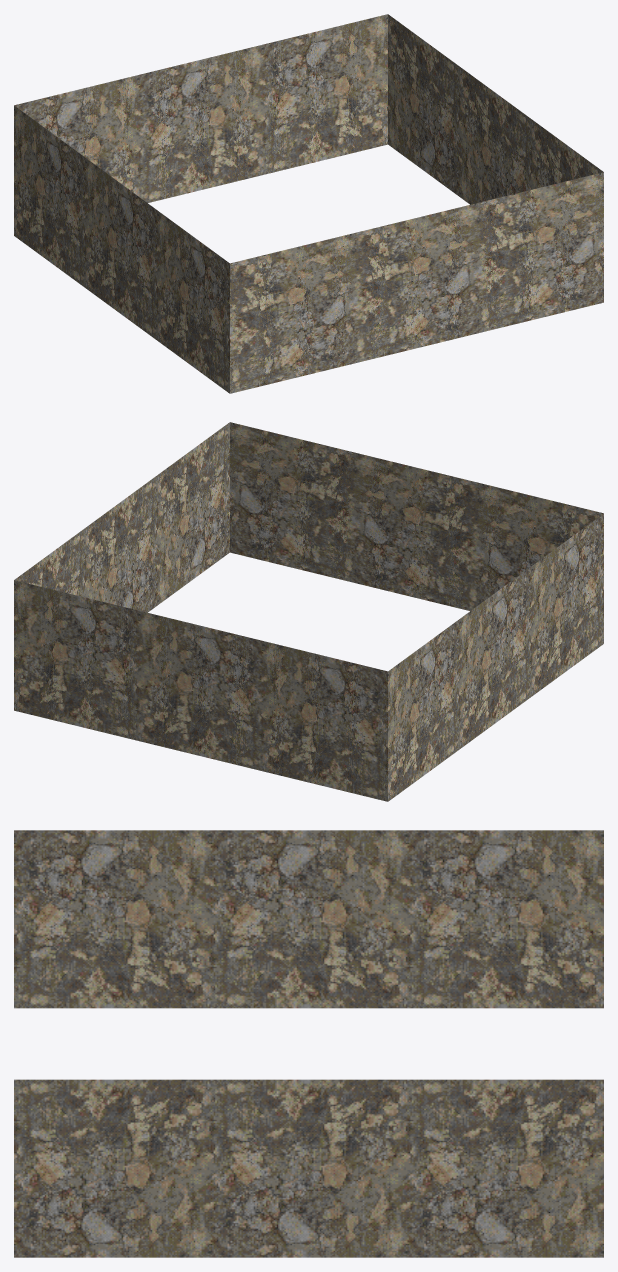
Rendered from Tiles3Dfbx.fbx.
The picture shows the model from 3 angles, top to bottom: view 1: azimuth 30°, elevation 25°; view 2: azimuth 150°, elevation 25°; view 3: azimuth 270°, elevation 25°; orthographic projection. The views are drawn at different scales.
Visible parts, largest first — view 1: Mid_Back_Right, Mid_Front_Left, Mid_Front_Right, Mid_Back_Left, Mid_Front_Center, Mid_Back_Center, Mid_InBetween_Left, Mid_InBetween_Right; view 2: Mid_Back_Left, Mid_Front_Right, Mid_Back_Right, Mid_Front_Left, Mid_Back_Center, Mid_Front_Center, Mid_InBetween_Left, Mid_InBetween_Right; view 3: Mid_InBetween_Right, Mid_InBetween_Left, Mid_Back_Right, Mid_Back_Left, Mid_Front_Right, Mid_Front_Left.
Boxes of the visible parts, box(x1,y1,x2,y2) form: Mid_Back_Right: box(263, 14, 459, 196); Mid_Front_Left: box(158, 211, 354, 393); Mid_Front_Right: box(479, 119, 603, 332); Mid_Back_Left: box(14, 75, 138, 288); Mid_Front_Center: box(354, 202, 479, 363); Mid_Back_Center: box(138, 44, 263, 202); Mid_InBetween_Left: box(86, 158, 157, 340); Mid_InBetween_Right: box(460, 67, 531, 204); Mid_Back_Left: box(263, 619, 459, 801); Mid_Front_Right: box(158, 422, 354, 604); Mid_Back_Right: box(14, 527, 138, 740); Mid_Front_Left: box(479, 483, 603, 696); Mid_Back_Center: box(138, 610, 263, 771); Mid_Front_Center: box(354, 452, 479, 610); Mid_InBetween_Left: box(460, 566, 531, 748); Mid_InBetween_Right: box(86, 475, 157, 612); Mid_InBetween_Right: box(210, 1079, 407, 1257); Mid_InBetween_Left: box(210, 830, 407, 1008); Mid_Back_Right: box(407, 1079, 603, 1257); Mid_Back_Left: box(407, 830, 603, 1008); Mid_Front_Right: box(14, 1079, 210, 1257); Mid_Front_Left: box(14, 830, 210, 1008).
Size of the model in its own units: 6 by 2 by 6.
